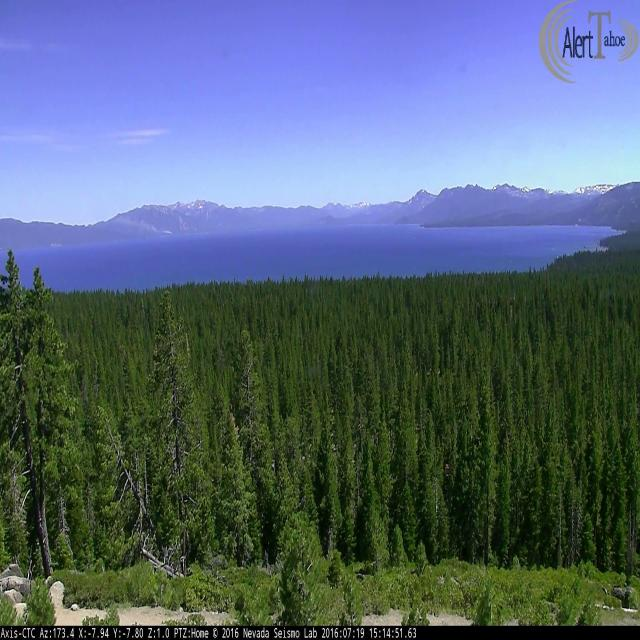smoke: (114, 212, 174, 236)
